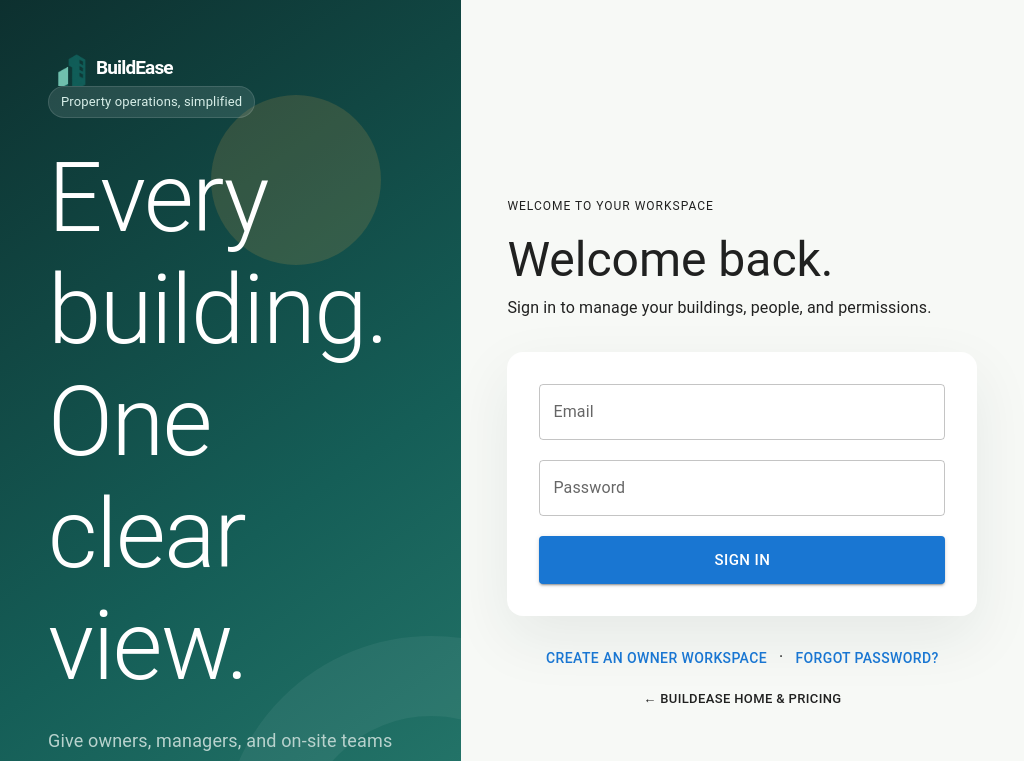
Test case: shows inline errors for an invalid email and a missing password without signing in
Type "not-an-email" into the field labelled "Email" at [742, 412], box x1=539 y1=384 x2=945 y2=440
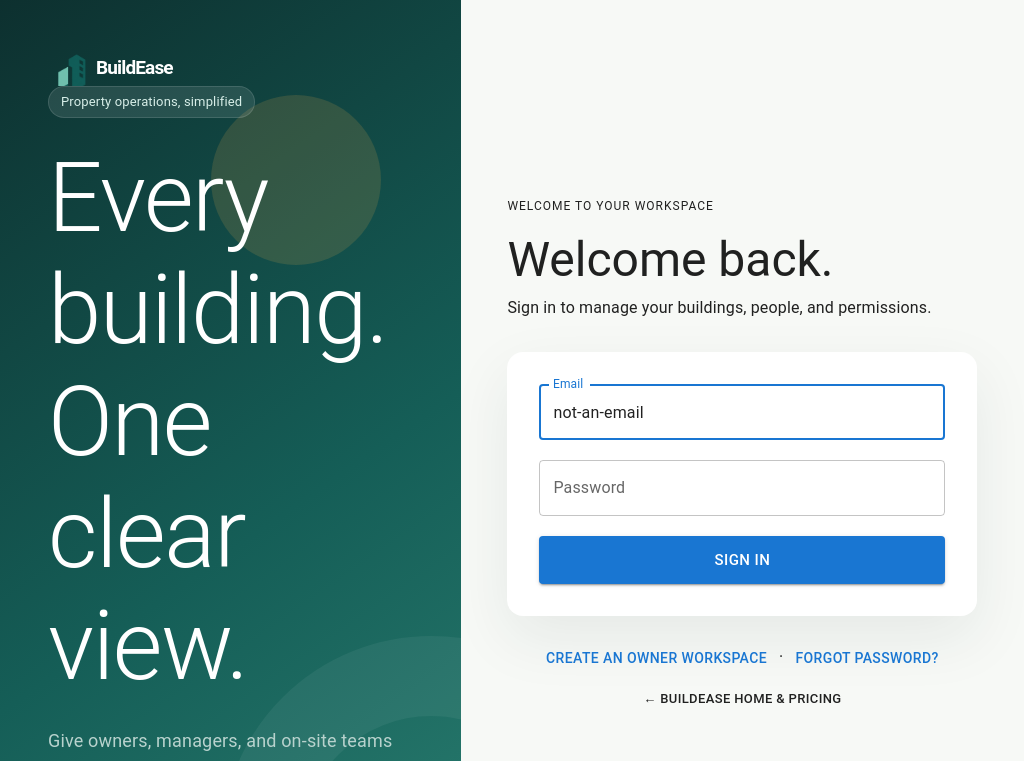
Click the button "Sign in" at [742, 560], box x1=539 y1=536 x2=945 y2=584
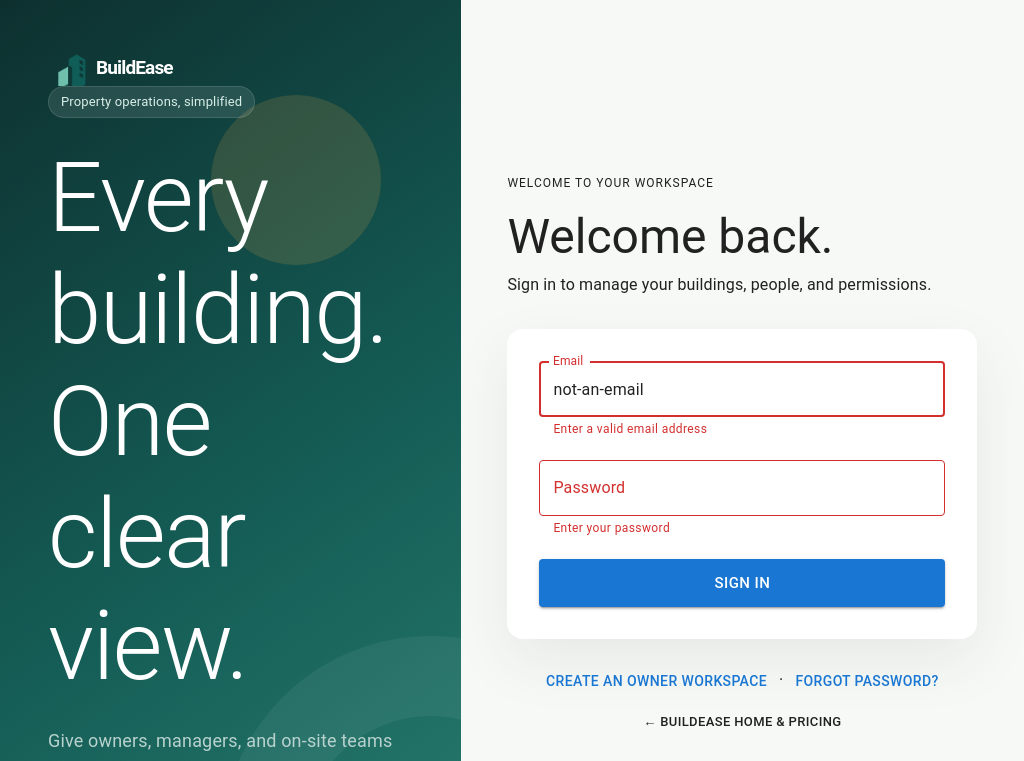
Now the text "Enter a valid email address" is shown, box x1=553 y1=422 x2=707 y2=436
Now the text "Enter your password" is shown, box x1=553 y1=521 x2=670 y2=535
